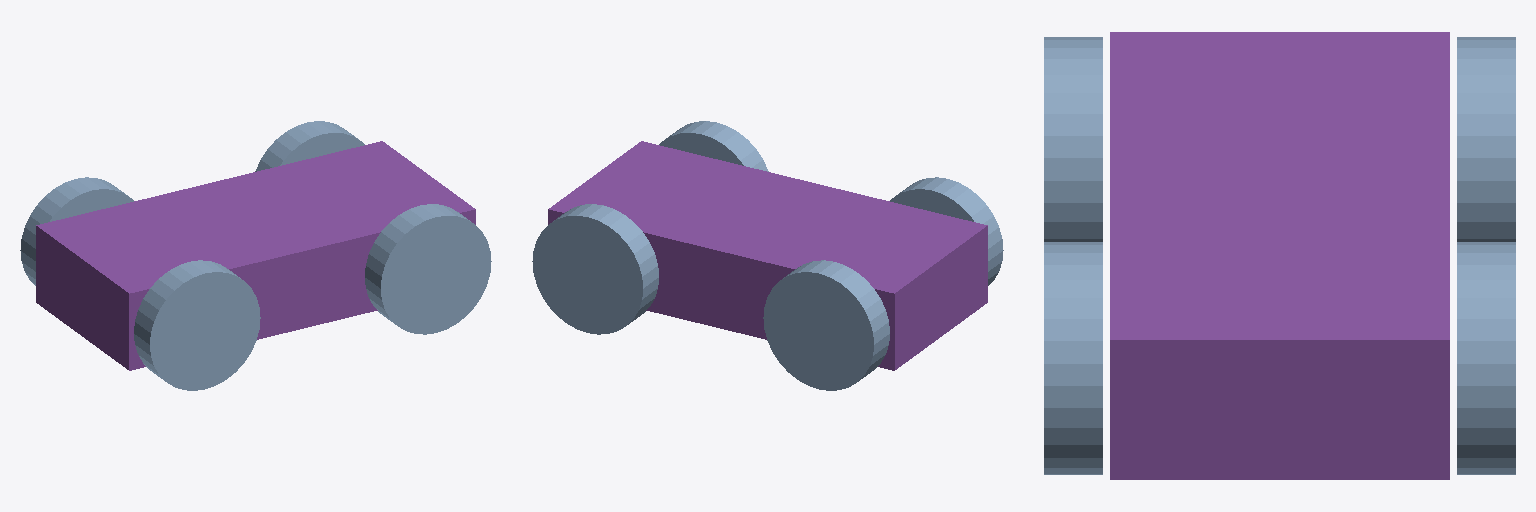
robot.urdf — LCAMP_Robot:
?<?xml version="1.0" encoding="utf-8"?>
<robot name="LCAMP_Robot">
  <link name="center">
    <inertial>
      <origin rpy="0 0 0" xyz="0 0 0" />
      <mass value="50" />
      <inertia ixx="98733.33333333334" ixy="0" ixz="0" iyy="392066.6666666667" iyz="0" izz="456666.6666666667" />
    </inertial>
    <visual>
      <geometry>
        <box size="300 140 64" />
      </geometry>
      <material name="center_material">
        <color rgba="0.6 0.4 0.7 0.5" />
      </material>
    </visual>
    <collision>
      <geometry>
        <box size="300 140 64" />
      </geometry>
    </collision>
  </link>
  <link name="drive_rl_Omni-Wheel">
    <inertial>
      <origin rpy="0 0 0" xyz="0 0 0" />
      <mass value="100" />
      <inertia ixx="47466.66666666667" ixy="0" ixz="0" iyy="401633.3333333334" iyz="0" izz="380833.3333333334" />
    </inertial>
    <visual name="Wheel-Hub">
      <origin rpy="1.5707963267948966 0 0" xyz="0 0 0" />
      <geometry>
        <mesh filename="[local-path]\Documents\Kooperative Forschung\LCAMP\WP6 CLF\Mobile Robot\DHBW CAD-Data\Wheels\STL-Step-Dateien\Wheel_Hub.STL" scale="1 1 1" />
      </geometry>
      <material name="drive_rl_Omni-Wheel_material">
        <color rgba="1 1 1 0.7" />
      </material>
    </visual>
    <visual name="rim_inner">
      <origin rpy="1.5707963267948966 0 0" xyz="0 0 10" />
      <geometry>
        <mesh filename="[local-path]\Documents\Kooperative Forschung\LCAMP\WP6 CLF\Mobile Robot\DHBW CAD-Data\RegularWheel\Stl-Step-Dateien\Regular_Wheel_Star_30_84.STL" scale="1 1 1" />
      </geometry>
      <material name="drive_rl_Omni-Wheel_material">
        <color rgba="1 1 1 0.7" />
      </material>
    </visual>
    <visual name="rim_outer">
      <origin rpy="1.5707963267948966 0 0" xyz="0 0 20" />
      <geometry>
        <mesh filename="[local-path]\Documents\Kooperative Forschung\LCAMP\WP6 CLF\Mobile Robot\DHBW CAD-Data\RegularWheel\Stl-Step-Dateien\Regular_Wheel_Star_24_84.STL" scale="1 1 1" />
      </geometry>
      <material name="drive_rl_Omni-Wheel_material">
        <color rgba="1 1 1 0.7" />
      </material>
    </visual>
    <visual name="Roller">
      <origin rpy="0 0 0" xyz="0 0 30" />
      <geometry>
        <mesh filename="[local-path]\Documents\Kooperative Forschung\LCAMP\WP6 CLF\Mobile Robot\DHBW CAD-Data\Wheels\STL-Step-Dateien\Hub_Cup_8.STL" scale="1 1 1" />
      </geometry>
      <material name="drive_rl_Omni-Wheel_material">
        <color rgba="1 1 1 0.7" />
      </material>
    </visual>
    <visual name="Roller">
      <origin rpy="1.5707963267948966 0 0" xyz="0 0 40" />
      <geometry>
        <mesh filename="[local-path]\Documents\Kooperative Forschung\LCAMP\WP6 CLF\Mobile Robot\DHBW CAD-Data\RegularWheel\Stl-Step-Dateien\Tire_96.STL" scale="1 1 1" />
      </geometry>
      <material name="drive_rl_Omni-Wheel_material">
        <color rgba="0 0 0 1" />
      </material>
    </visual>
    <collision>
      <geometry>
        <cylinder length="1" radius="1" />
      </geometry>
    </collision>
  </link>
  <link name="jdrive_rl">
    <inertial>
      <origin rpy="0 0 0" xyz="0 0 0" />
      <mass value="50" />
      <inertia ixx="31200.000000000004" ixy="0" ixz="0" iyy="31200.000000000004" iyz="0" izz="57600" />
    </inertial>
    <visual>
      <geometry>
        <cylinder length="24" radius="48" />
      </geometry>
      <material name="jdrive_rl_material">
        <color rgba="0.6 0.7 0.8 0.6" />
      </material>
    </visual>
    <collision>
      <geometry>
        <cylinder length="24" radius="48" />
      </geometry>
    </collision>
  </link>
  <link name="drive_rr_Omni-Wheel">
    <inertial>
      <origin rpy="0 0 0" xyz="0 0 0" />
      <mass value="100" />
      <inertia ixx="47466.66666666667" ixy="0" ixz="0" iyy="401633.3333333334" iyz="0" izz="380833.3333333334" />
    </inertial>
    <visual name="Wheel-Hub">
      <origin rpy="1.5707963267948966 0 0" xyz="0 0 0" />
      <geometry>
        <mesh filename="[local-path]\Documents\Kooperative Forschung\LCAMP\WP6 CLF\Mobile Robot\DHBW CAD-Data\Wheels\STL-Step-Dateien\Wheel_Hub.STL" scale="1 1 1" />
      </geometry>
      <material name="drive_rr_Omni-Wheel_material">
        <color rgba="1 1 1 0.7" />
      </material>
    </visual>
    <visual name="rim_inner">
      <origin rpy="1.5707963267948966 0 0" xyz="0 0 10" />
      <geometry>
        <mesh filename="[local-path]\Documents\Kooperative Forschung\LCAMP\WP6 CLF\Mobile Robot\DHBW CAD-Data\RegularWheel\Stl-Step-Dateien\Regular_Wheel_Star_30_84.STL" scale="1 1 1" />
      </geometry>
      <material name="drive_rr_Omni-Wheel_material">
        <color rgba="1 1 1 0.7" />
      </material>
    </visual>
    <visual name="rim_outer">
      <origin rpy="1.5707963267948966 0 0" xyz="0 0 20" />
      <geometry>
        <mesh filename="[local-path]\Documents\Kooperative Forschung\LCAMP\WP6 CLF\Mobile Robot\DHBW CAD-Data\RegularWheel\Stl-Step-Dateien\Regular_Wheel_Star_24_84.STL" scale="1 1 1" />
      </geometry>
      <material name="drive_rr_Omni-Wheel_material">
        <color rgba="1 1 1 0.7" />
      </material>
    </visual>
    <visual name="Roller">
      <origin rpy="0 0 0" xyz="0 0 30" />
      <geometry>
        <mesh filename="[local-path]\Documents\Kooperative Forschung\LCAMP\WP6 CLF\Mobile Robot\DHBW CAD-Data\Wheels\STL-Step-Dateien\Hub_Cup_8.STL" scale="1 1 1" />
      </geometry>
      <material name="drive_rr_Omni-Wheel_material">
        <color rgba="1 1 1 0.7" />
      </material>
    </visual>
    <visual name="Roller">
      <origin rpy="1.5707963267948966 0 0" xyz="0 0 40" />
      <geometry>
        <mesh filename="[local-path]\Documents\Kooperative Forschung\LCAMP\WP6 CLF\Mobile Robot\DHBW CAD-Data\RegularWheel\Stl-Step-Dateien\Tire_96.STL" scale="1 1 1" />
      </geometry>
      <material name="drive_rr_Omni-Wheel_material">
        <color rgba="0 0 0 1" />
      </material>
    </visual>
    <collision>
      <geometry>
        <cylinder length="1" radius="1" />
      </geometry>
    </collision>
  </link>
  <link name="jdrive_rr">
    <inertial>
      <origin rpy="0 0 0" xyz="0 0 0" />
      <mass value="50" />
      <inertia ixx="31200.000000000004" ixy="0" ixz="0" iyy="31200.000000000004" iyz="0" izz="57600" />
    </inertial>
    <visual>
      <geometry>
        <cylinder length="24" radius="48" />
      </geometry>
      <material name="jdrive_rr_material">
        <color rgba="0.6 0.7 0.8 0.6" />
      </material>
    </visual>
    <collision>
      <geometry>
        <cylinder length="24" radius="48" />
      </geometry>
    </collision>
  </link>
  <link name="drive_fl_Regular-Wheel">
    <inertial>
      <origin rpy="0 0 0" xyz="0 0 0" />
      <mass value="100" />
      <inertia ixx="47466.66666666667" ixy="0" ixz="0" iyy="401633.3333333334" iyz="0" izz="380833.3333333334" />
    </inertial>
    <visual name="Wheel-Hub">
      <origin rpy="1.5707963267948966 0 0" xyz="0 0 0" />
      <geometry>
        <mesh filename="[local-path]\Documents\Kooperative Forschung\LCAMP\WP6 CLF\Mobile Robot\DHBW CAD-Data\Wheels\STL-Step-Dateien\Wheel_Hub.STL" scale="1 1 1" />
      </geometry>
      <material name="drive_fl_Regular-Wheel_material">
        <color rgba="1 1 1 0.7" />
      </material>
    </visual>
    <visual name="rim-inner">
      <origin rpy="1.5707963267948966 0 0" xyz="0 0 10" />
      <geometry>
        <mesh filename="[local-path]\Documents\Kooperative Forschung\LCAMP\WP6 CLF\Mobile Robot\DHBW CAD-Data\RegularWheel\Stl-Step-Dateien\Regular_Wheel_Star_30_84.STL" scale="1 1 1" />
      </geometry>
      <material name="drive_fl_Regular-Wheel_material">
        <color rgba="1 1 1 0.7" />
      </material>
    </visual>
    <visual name="rim-outer">
      <origin rpy="1.5707963267948966 0 0" xyz="0 0 20" />
      <geometry>
        <mesh filename="[local-path]\Documents\Kooperative Forschung\LCAMP\WP6 CLF\Mobile Robot\DHBW CAD-Data\RegularWheel\Stl-Step-Dateien\Regular_Wheel_Star_24_84.STL" scale="1 1 1" />
      </geometry>
      <material name="drive_fl_Regular-Wheel_material">
        <color rgba="1 1 1 0.7" />
      </material>
    </visual>
    <visual name="Wheel-Hub-Cup">
      <origin rpy="0 0 0" xyz="0 0 30" />
      <geometry>
        <mesh filename="[local-path]\Documents\Kooperative Forschung\LCAMP\WP6 CLF\Mobile Robot\DHBW CAD-Data\Wheels\STL-Step-Dateien\Hub_Cup_8.STL" scale="1 1 1" />
      </geometry>
      <material name="drive_fl_Regular-Wheel_material">
        <color rgba="1 1 1 0.7" />
      </material>
    </visual>
    <visual name="Tire">
      <origin rpy="1.5707963267948966 0 0" xyz="0 0 40" />
      <geometry>
        <mesh filename="[local-path]\Documents\Kooperative Forschung\LCAMP\WP6 CLF\Mobile Robot\DHBW CAD-Data\RegularWheel\Stl-Step-Dateien\Tire_96.STL" scale="1 1 1" />
      </geometry>
      <material name="drive_fl_Regular-Wheel_material">
        <color rgba="0 0 0 1" />
      </material>
    </visual>
    <collision>
      <geometry>
        <cylinder length="1" radius="1" />
      </geometry>
    </collision>
  </link>
  <link name="jdrive_fl">
    <inertial>
      <origin rpy="0 0 0" xyz="0 0 0" />
      <mass value="50" />
      <inertia ixx="31200.000000000004" ixy="0" ixz="0" iyy="31200.000000000004" iyz="0" izz="57600" />
    </inertial>
    <visual>
      <geometry>
        <cylinder length="24" radius="48" />
      </geometry>
      <material name="jdrive_fl_material">
        <color rgba="0.6 0.7 0.8 0.6" />
      </material>
    </visual>
    <collision>
      <geometry>
        <cylinder length="24" radius="48" />
      </geometry>
    </collision>
  </link>
  <link name="drive_fr_Regular-Wheel">
    <inertial>
      <origin rpy="0 0 0" xyz="0 0 0" />
      <mass value="100" />
      <inertia ixx="47466.66666666667" ixy="0" ixz="0" iyy="401633.3333333334" iyz="0" izz="380833.3333333334" />
    </inertial>
    <visual name="Wheel-Hub">
      <origin rpy="1.5707963267948966 0 0" xyz="0 0 0" />
      <geometry>
        <mesh filename="[local-path]\Documents\Kooperative Forschung\LCAMP\WP6 CLF\Mobile Robot\DHBW CAD-Data\Wheels\STL-Step-Dateien\Wheel_Hub.STL" scale="1 1 1" />
      </geometry>
      <material name="drive_fr_Regular-Wheel_material">
        <color rgba="1 1 1 0.7" />
      </material>
    </visual>
    <visual name="rim-inner">
      <origin rpy="1.5707963267948966 0 0" xyz="0 0 10" />
      <geometry>
        <mesh filename="[local-path]\Documents\Kooperative Forschung\LCAMP\WP6 CLF\Mobile Robot\DHBW CAD-Data\RegularWheel\Stl-Step-Dateien\Regular_Wheel_Star_30_84.STL" scale="1 1 1" />
      </geometry>
      <material name="drive_fr_Regular-Wheel_material">
        <color rgba="1 1 1 0.7" />
      </material>
    </visual>
    <visual name="rim-outer">
      <origin rpy="1.5707963267948966 0 0" xyz="0 0 20" />
      <geometry>
        <mesh filename="[local-path]\Documents\Kooperative Forschung\LCAMP\WP6 CLF\Mobile Robot\DHBW CAD-Data\RegularWheel\Stl-Step-Dateien\Regular_Wheel_Star_24_84.STL" scale="1 1 1" />
      </geometry>
      <material name="drive_fr_Regular-Wheel_material">
        <color rgba="1 1 1 0.7" />
      </material>
    </visual>
    <visual name="Wheel-Hub-Cup">
      <origin rpy="0 0 0" xyz="0 0 30" />
      <geometry>
        <mesh filename="[local-path]\Documents\Kooperative Forschung\LCAMP\WP6 CLF\Mobile Robot\DHBW CAD-Data\Wheels\STL-Step-Dateien\Hub_Cup_8.STL" scale="1 1 1" />
      </geometry>
      <material name="drive_fr_Regular-Wheel_material">
        <color rgba="1 1 1 0.7" />
      </material>
    </visual>
    <visual name="Tire">
      <origin rpy="1.5707963267948966 0 0" xyz="0 0 40" />
      <geometry>
        <mesh filename="[local-path]\Documents\Kooperative Forschung\LCAMP\WP6 CLF\Mobile Robot\DHBW CAD-Data\RegularWheel\Stl-Step-Dateien\Tire_96.STL" scale="1 1 1" />
      </geometry>
      <material name="drive_fr_Regular-Wheel_material">
        <color rgba="0 0 0 1" />
      </material>
    </visual>
    <collision>
      <geometry>
        <cylinder length="1" radius="1" />
      </geometry>
    </collision>
  </link>
  <link name="jdrive_fr">
    <inertial>
      <origin rpy="0 0 0" xyz="0 0 0" />
      <mass value="50" />
      <inertia ixx="31200.000000000004" ixy="0" ixz="0" iyy="31200.000000000004" iyz="0" izz="57600" />
    </inertial>
    <visual>
      <geometry>
        <cylinder length="24" radius="48" />
      </geometry>
      <material name="jdrive_fr_material">
        <color rgba="0.6 0.7 0.8 0.6" />
      </material>
    </visual>
    <collision>
      <geometry>
        <cylinder length="24" radius="48" />
      </geometry>
    </collision>
  </link>
  <link name="Sensorbox front_sbFront">
    <inertial>
      <origin rpy="0 0 0" xyz="0 0 0" />
      <mass value="100" />
      <inertia ixx="47466.66666666667" ixy="0" ixz="0" iyy="401633.3333333334" iyz="0" izz="380833.3333333334" />
    </inertial>
    <visual>
      <geometry>
        <mesh filename="[local-path]\Documents\Kooperative Forschung\LCAMP\WP6 CLF\Mobile Robot\DHBW CAD-Data\SensorSystems\STL-Step-Files\Sensorbox curved_15.STL" scale="1 1 1" />
      </geometry>
      <material name="Sensorbox front_sbFront_material">
        <color rgba="0.5019607843137255 0.5019607843137255 0.5019607843137255 1" />
      </material>
    </visual>
    <collision>
      <geometry>
        <mesh filename="[local-path]\Documents\Kooperative Forschung\LCAMP\WP6 CLF\Mobile Robot\DHBW CAD-Data\SensorSystems\STL-Step-Files\Sensorbox curved_15.STL" scale="1 1 1" />
      </geometry>
    </collision>
  </link>
  <link name="Sensorbox rear_sbRear">
    <inertial>
      <origin rpy="0 0 0" xyz="0 0 0" />
      <mass value="100" />
      <inertia ixx="47466.66666666667" ixy="0" ixz="0" iyy="401633.3333333334" iyz="0" izz="380833.3333333334" />
    </inertial>
    <visual>
      <geometry>
        <mesh filename="[local-path]\Documents\Kooperative Forschung\LCAMP\WP6 CLF\Mobile Robot\DHBW CAD-Data\SensorSystems\STL-Step-Files\Sensorbox curved_15.STL" scale="1 1 1" />
      </geometry>
      <material name="Sensorbox rear_sbRear_material">
        <color rgba="0.5019607843137255 0.5019607843137255 0.5019607843137255 1" />
      </material>
    </visual>
    <collision>
      <geometry>
        <mesh filename="[local-path]\Documents\Kooperative Forschung\LCAMP\WP6 CLF\Mobile Robot\DHBW CAD-Data\SensorSystems\STL-Step-Files\Sensorbox curved_15.STL" scale="1 1 1" />
      </geometry>
    </collision>
  </link>
  <joint name="joint_drive_rl" type="continuous">
    <origin rpy="1.5707963267948966 0 0" xyz="-100 85 0" />
    <parent link="center" />
    <child link="jdrive_rl" />
    <axis xyz="0 0 1" />
    <dynamics damping="0.1" friction="0.1" />
  </joint>
  <joint name="joint_drive_rl_Omni-Wheel" type="fixed">
    <origin rpy="0 3.141592653589793 0" xyz="0 0 -12" />
    <parent link="jdrive_rl" />
    <child link="drive_rl_Omni-Wheel" />
    <axis xyz="0 0 1" />
    <dynamics damping="0.1" friction="0.1" />
  </joint>
  <joint name="joint_drive_rr" type="continuous">
    <origin rpy="-1.5707963267948966 0 0" xyz="-100 -85 0" />
    <parent link="center" />
    <child link="jdrive_rr" />
    <axis xyz="0 0 1" />
    <dynamics damping="0.1" friction="0.1" />
  </joint>
  <joint name="joint_drive_rr_Omni-Wheel" type="fixed">
    <origin rpy="0 3.141592653589793 0" xyz="0 0 -12" />
    <parent link="jdrive_rr" />
    <child link="drive_rr_Omni-Wheel" />
    <axis xyz="0 0 1" />
    <dynamics damping="0.1" friction="0.1" />
  </joint>
  <joint name="joint_drive_fl" type="continuous">
    <origin rpy="1.5707963267948966 0 0" xyz="100 85 0" />
    <parent link="center" />
    <child link="jdrive_fl" />
    <axis xyz="0 0 1" />
    <dynamics damping="0.1" friction="0.1" />
  </joint>
  <joint name="joint_drive_fl_Regular-Wheel" type="fixed">
    <origin rpy="0 3.141592653589793 0" xyz="0 0 -12" />
    <parent link="jdrive_fl" />
    <child link="drive_fl_Regular-Wheel" />
    <axis xyz="0 0 1" />
    <dynamics damping="0.1" friction="0.1" />
  </joint>
  <joint name="joint_drive_fr" type="continuous">
    <origin rpy="-1.5707963267948966 0 0" xyz="100 -85 0" />
    <parent link="center" />
    <child link="jdrive_fr" />
    <axis xyz="0 0 1" />
    <dynamics damping="0.1" friction="0.1" />
  </joint>
  <joint name="joint_drive_fr_Regular-Wheel" type="fixed">
    <origin rpy="0 3.141592653589793 0" xyz="0 0 -12" />
    <parent link="jdrive_fr" />
    <child link="drive_fr_Regular-Wheel" />
    <axis xyz="0 0 1" />
    <dynamics damping="0.1" friction="0.1" />
  </joint>
  <joint name="link_Sensorbox front_sbFront" type="fixed">
    <origin rpy="-1.5707963267948966 -1.5707963267948966 0" xyz="150 0 -32" />
    <parent link="center" />
    <child link="Sensorbox front_sbFront" />
    <axis xyz="0 0 1" />
    <dynamics damping="0.1" friction="0.1" />
  </joint>
  <joint name="link_Sensorbox rear_sbRear" type="fixed">
    <origin rpy="1.5707963267948966 -1.5707963267948966 0" xyz="-150 0 -32" />
    <parent link="center" />
    <child link="Sensorbox rear_sbRear" />
    <axis xyz="0 0 1" />
    <dynamics damping="0.1" friction="0.1" />
  </joint>
</robot>

--- What the picture shows (computed from the rendered views, not written in the file) ---
Views: 3 orthographic renders of the robot side by side, from view 1: azimuth 30°, elevation 25°; view 2: azimuth 150°, elevation 25°; view 3: azimuth 270°, elevation 25°.
Robot: LCAMP_Robot — 11 links, 10 joints (4 continuous, 6 fixed); root link center; default pose: every joint at zero.
Links seen in each view (by area): view 1: center, jdrive_rr, jdrive_fr, jdrive_rl, jdrive_fl; view 2: center, jdrive_rl, jdrive_fl, jdrive_rr, jdrive_fr; view 3: center, jdrive_fl, jdrive_fr, jdrive_rl, jdrive_rr.
Link boxes in pixels (x1,y1,x2,y2): center: (36, 141, 475, 370); jdrive_rr: (134, 260, 260, 390); jdrive_fr: (365, 204, 491, 334); jdrive_rl: (20, 177, 133, 285); jdrive_fl: (255, 121, 364, 171); center: (548, 141, 987, 370); jdrive_rl: (763, 260, 889, 390); jdrive_fl: (532, 204, 658, 334); jdrive_rr: (890, 177, 1003, 285); jdrive_fr: (659, 121, 768, 171); center: (1110, 32, 1449, 479); jdrive_fl: (1457, 242, 1515, 474); jdrive_fr: (1044, 242, 1102, 474); jdrive_rl: (1457, 37, 1515, 241); jdrive_rr: (1044, 37, 1102, 241).
Size in the robot's own frame: 300 by 194 by 96 metres.
Geometry: only primitive shapes (box / cylinder / sphere) drawn; not drawn: 22 mesh visuals (reference in a form the renderer does not follow).